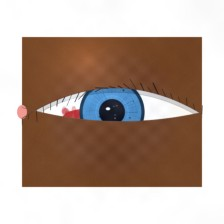hemorrhage_spot: (53, 91, 122, 147)
